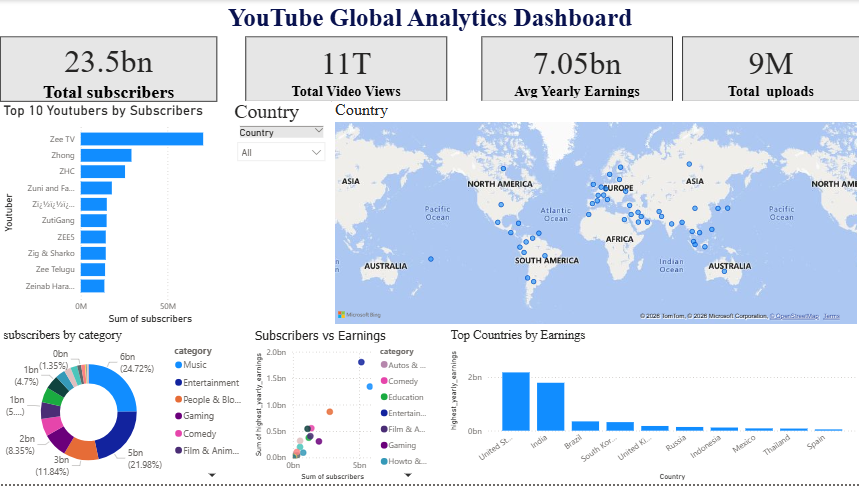

The page's visual inventory and layout, read from the dashboard file:
{"tool":"powerbi","page":{"name":"Page 1","canvas":[1280,720],"ordinal":0},"visuals":[{"type":"clusteredColumnChart","title":" Top Countries by Earnings","fields":{"Category":["experiment data.Country"],"Y":["Sum(experiment data.highest_yearly_earnings)"]},"box":[665.3,487.4,614.3,232.1],"z":0},{"type":"card","fields":{"Values":["Sum(experiment data.subscribers)"]},"box":[0,54.2,323.4,97.5],"z":1000},{"type":"card","fields":{"Values":["Sum(experiment data.video views)"]},"box":[365.1,54.2,300.2,97.5],"z":2000},{"type":"card","fields":{"Values":["Sum(experiment data.highest_yearly_earnings)"]},"box":[716.4,54.2,284.7,97.5],"z":3000},{"type":"card","fields":{"Values":["Sum(experiment data.uploads)"]},"box":[1015,54.2,264.6,97.5],"z":4000},{"type":"map","fields":{"Category":["experiment data.Country"]},"box":[493.6,150.1,786,337.3],"z":5000},{"type":"barChart","title":"Top 10 Youtubers by Subscribers","fields":{"Category":["experiment data.Youtuber"],"Y":["Sum(experiment data.subscribers)"]},"box":[0,152,344,336],"z":6000},{"type":"donutChart","title":" subscribers by category","fields":{"Category":["experiment data.category"],"Y":["Sum(experiment data.subscribers)"]},"box":[0,487.4,374.4,232.1],"z":7000},{"type":"scatterChart","title":"Subscribers vs Earnings","fields":{"X":["Sum(experiment data.subscribers)"],"Y":["Sum(experiment data.highest_yearly_earnings)"],"Series":["experiment data.category"]},"box":[374.4,487.4,277,232.1],"z":8000},{"type":"slicer","title":"Country ","fields":{"Values":["experiment data.Country"]},"box":[343.5,150.1,150.1,335.8],"z":9000},{"type":"textbox","box":[0,0,1279.6,54.2],"z":9001}]}

Visuals, with their boxes in screenshot pixels (x1, y1, x2, y2), scaled from the page's 1280x720 canvas onto the 859x490 screenshot:
" Top Countries by Earnings" clusteredColumnChart: left=446, top=332, right=858, bottom=489
card - Sum(experiment data.subscribers): left=0, top=37, right=217, bottom=103
card - Sum(experiment data.video views): left=245, top=37, right=446, bottom=103
card - Sum(experiment data.highest_yearly_earnings): left=481, top=37, right=672, bottom=103
card - Sum(experiment data.uploads): left=681, top=37, right=858, bottom=103
map - experiment data.Country: left=331, top=102, right=858, bottom=332
"Top 10 Youtubers by Subscribers" barChart: left=0, top=103, right=231, bottom=332
" subscribers by category" donutChart: left=0, top=332, right=251, bottom=489
"Subscribers vs Earnings" scatterChart: left=251, top=332, right=437, bottom=489
"Country " slicer: left=231, top=102, right=331, bottom=331
textbox: left=0, top=0, right=858, bottom=37
